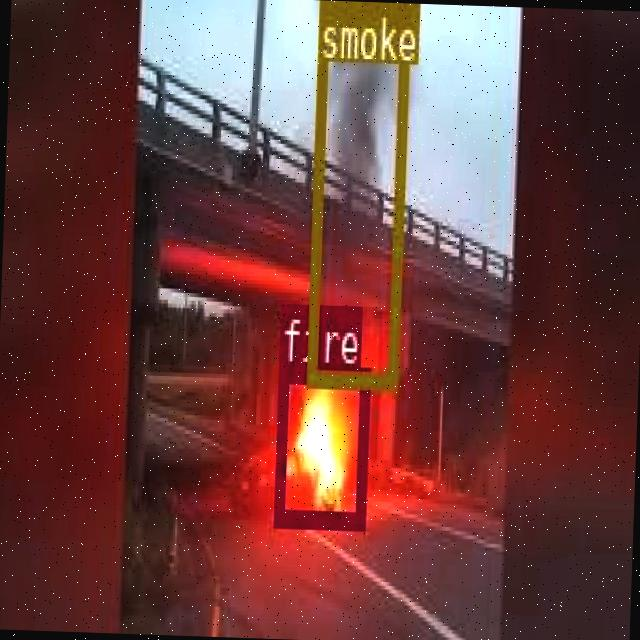fire: (272, 362, 368, 526)
smoke: (304, 0, 409, 383)
